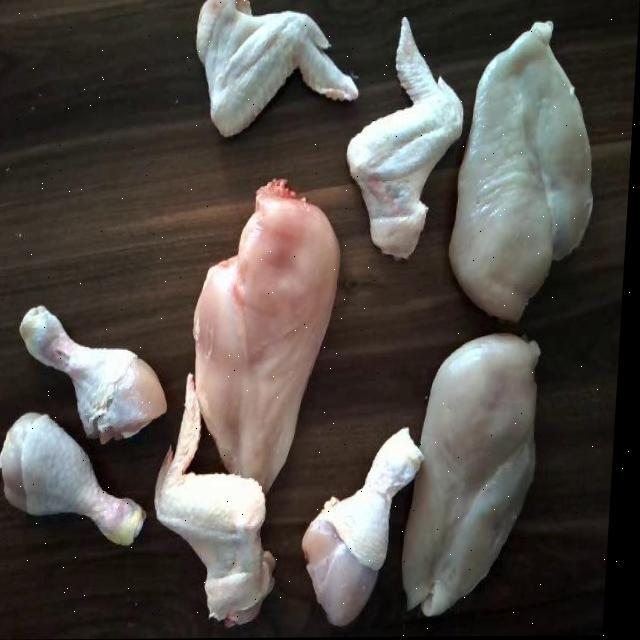breast: (193, 168, 348, 488), (456, 12, 596, 328), (413, 327, 545, 616)
leg: (0, 398, 156, 557), (10, 285, 172, 437), (310, 426, 429, 620)
wing: (147, 368, 289, 618), (346, 13, 469, 264), (181, 0, 362, 138)
